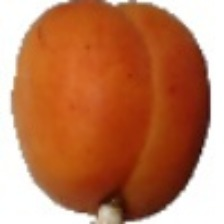apricot: (42, 37, 183, 208)
